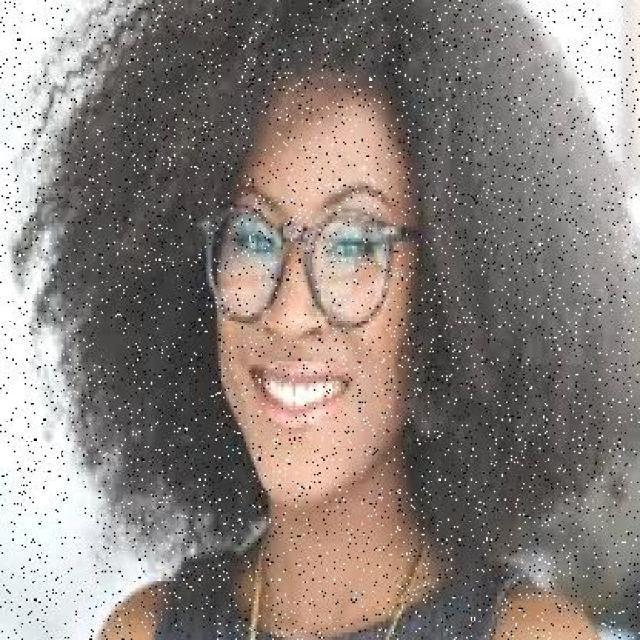mask: (198, 194, 399, 330)
